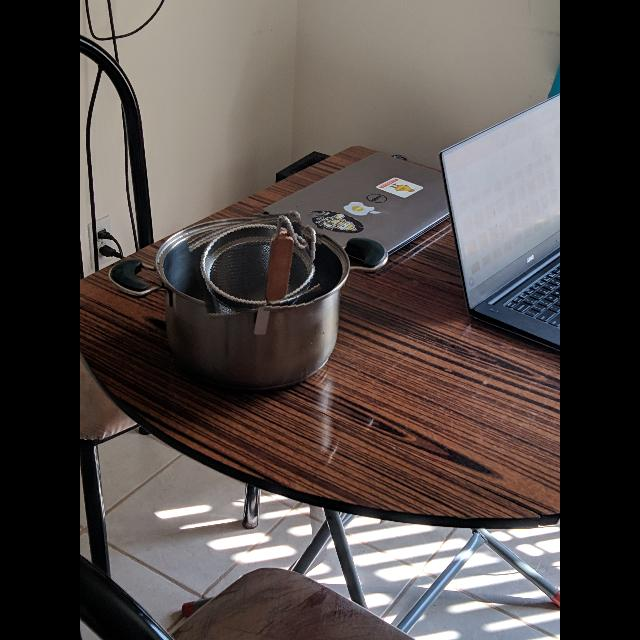Handle: (241, 211, 324, 312)
Strainer: (199, 220, 314, 310)
